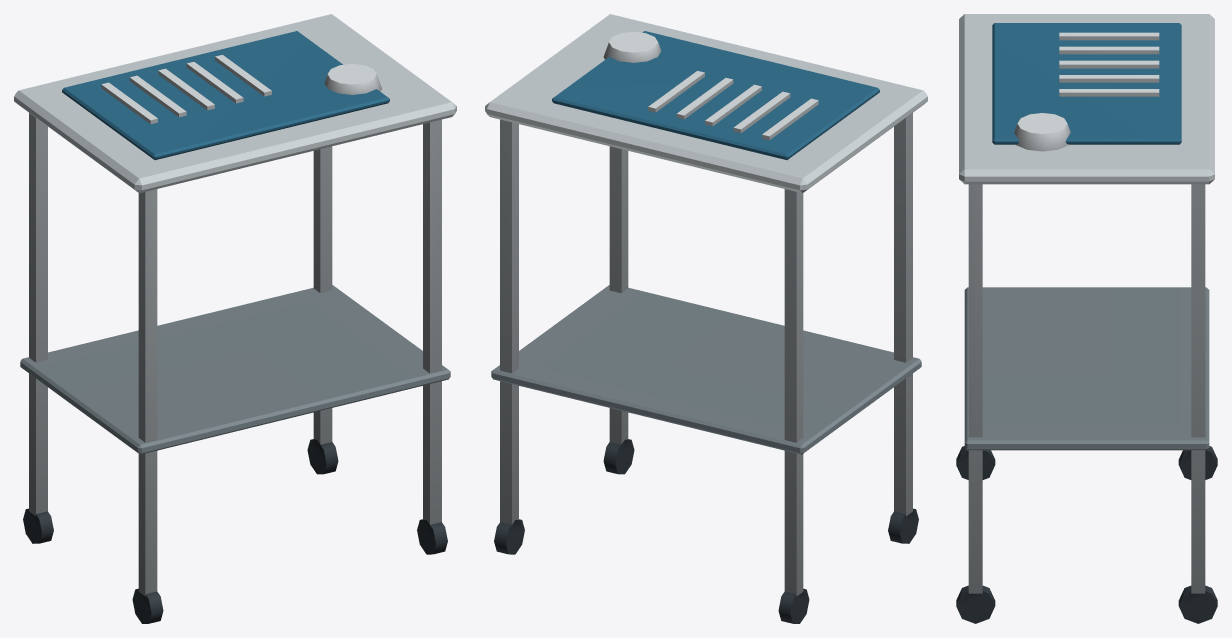
File: instrument_table.glb
The picture shows the model from 3 angles, left to right: view 1: azimuth 30°, elevation 25°; view 2: azimuth 150°, elevation 25°; view 3: azimuth 270°, elevation 25°; orthographic projection.
Parts seen in each view (by area): view 1: shelf, frame, top, tray, instruments, wheels; view 2: shelf, frame, top, tray, instruments, wheels; view 3: shelf, top, tray, frame, instruments, wheels.
Part boxes in pixels (left/top/right/bottom): shelf: left=20, top=285, right=450, bottom=454; frame: left=29, top=113, right=441, bottom=596; top: left=14, top=14, right=456, bottom=193; tray: left=62, top=31, right=389, bottom=159; instruments: left=101, top=55, right=381, bottom=124; wheels: left=23, top=439, right=447, bottom=623; shelf: left=491, top=285, right=921, bottom=454; frame: left=500, top=113, right=912, bottom=596; top: left=485, top=14, right=927, bottom=193; tray: left=552, top=31, right=879, bottom=159; instruments: left=603, top=31, right=818, bottom=140; wheels: left=494, top=439, right=918, bottom=623; shelf: left=964, top=287, right=1209, bottom=450; top: left=959, top=14, right=1214, bottom=184; tray: left=992, top=23, right=1181, bottom=144; frame: left=968, top=184, right=1205, bottom=593; instruments: left=1014, top=32, right=1159, bottom=151; wheels: left=956, top=446, right=1217, bottom=623.
Bounding box in the file's own units: 0.68 × 0.94 × 0.47.
